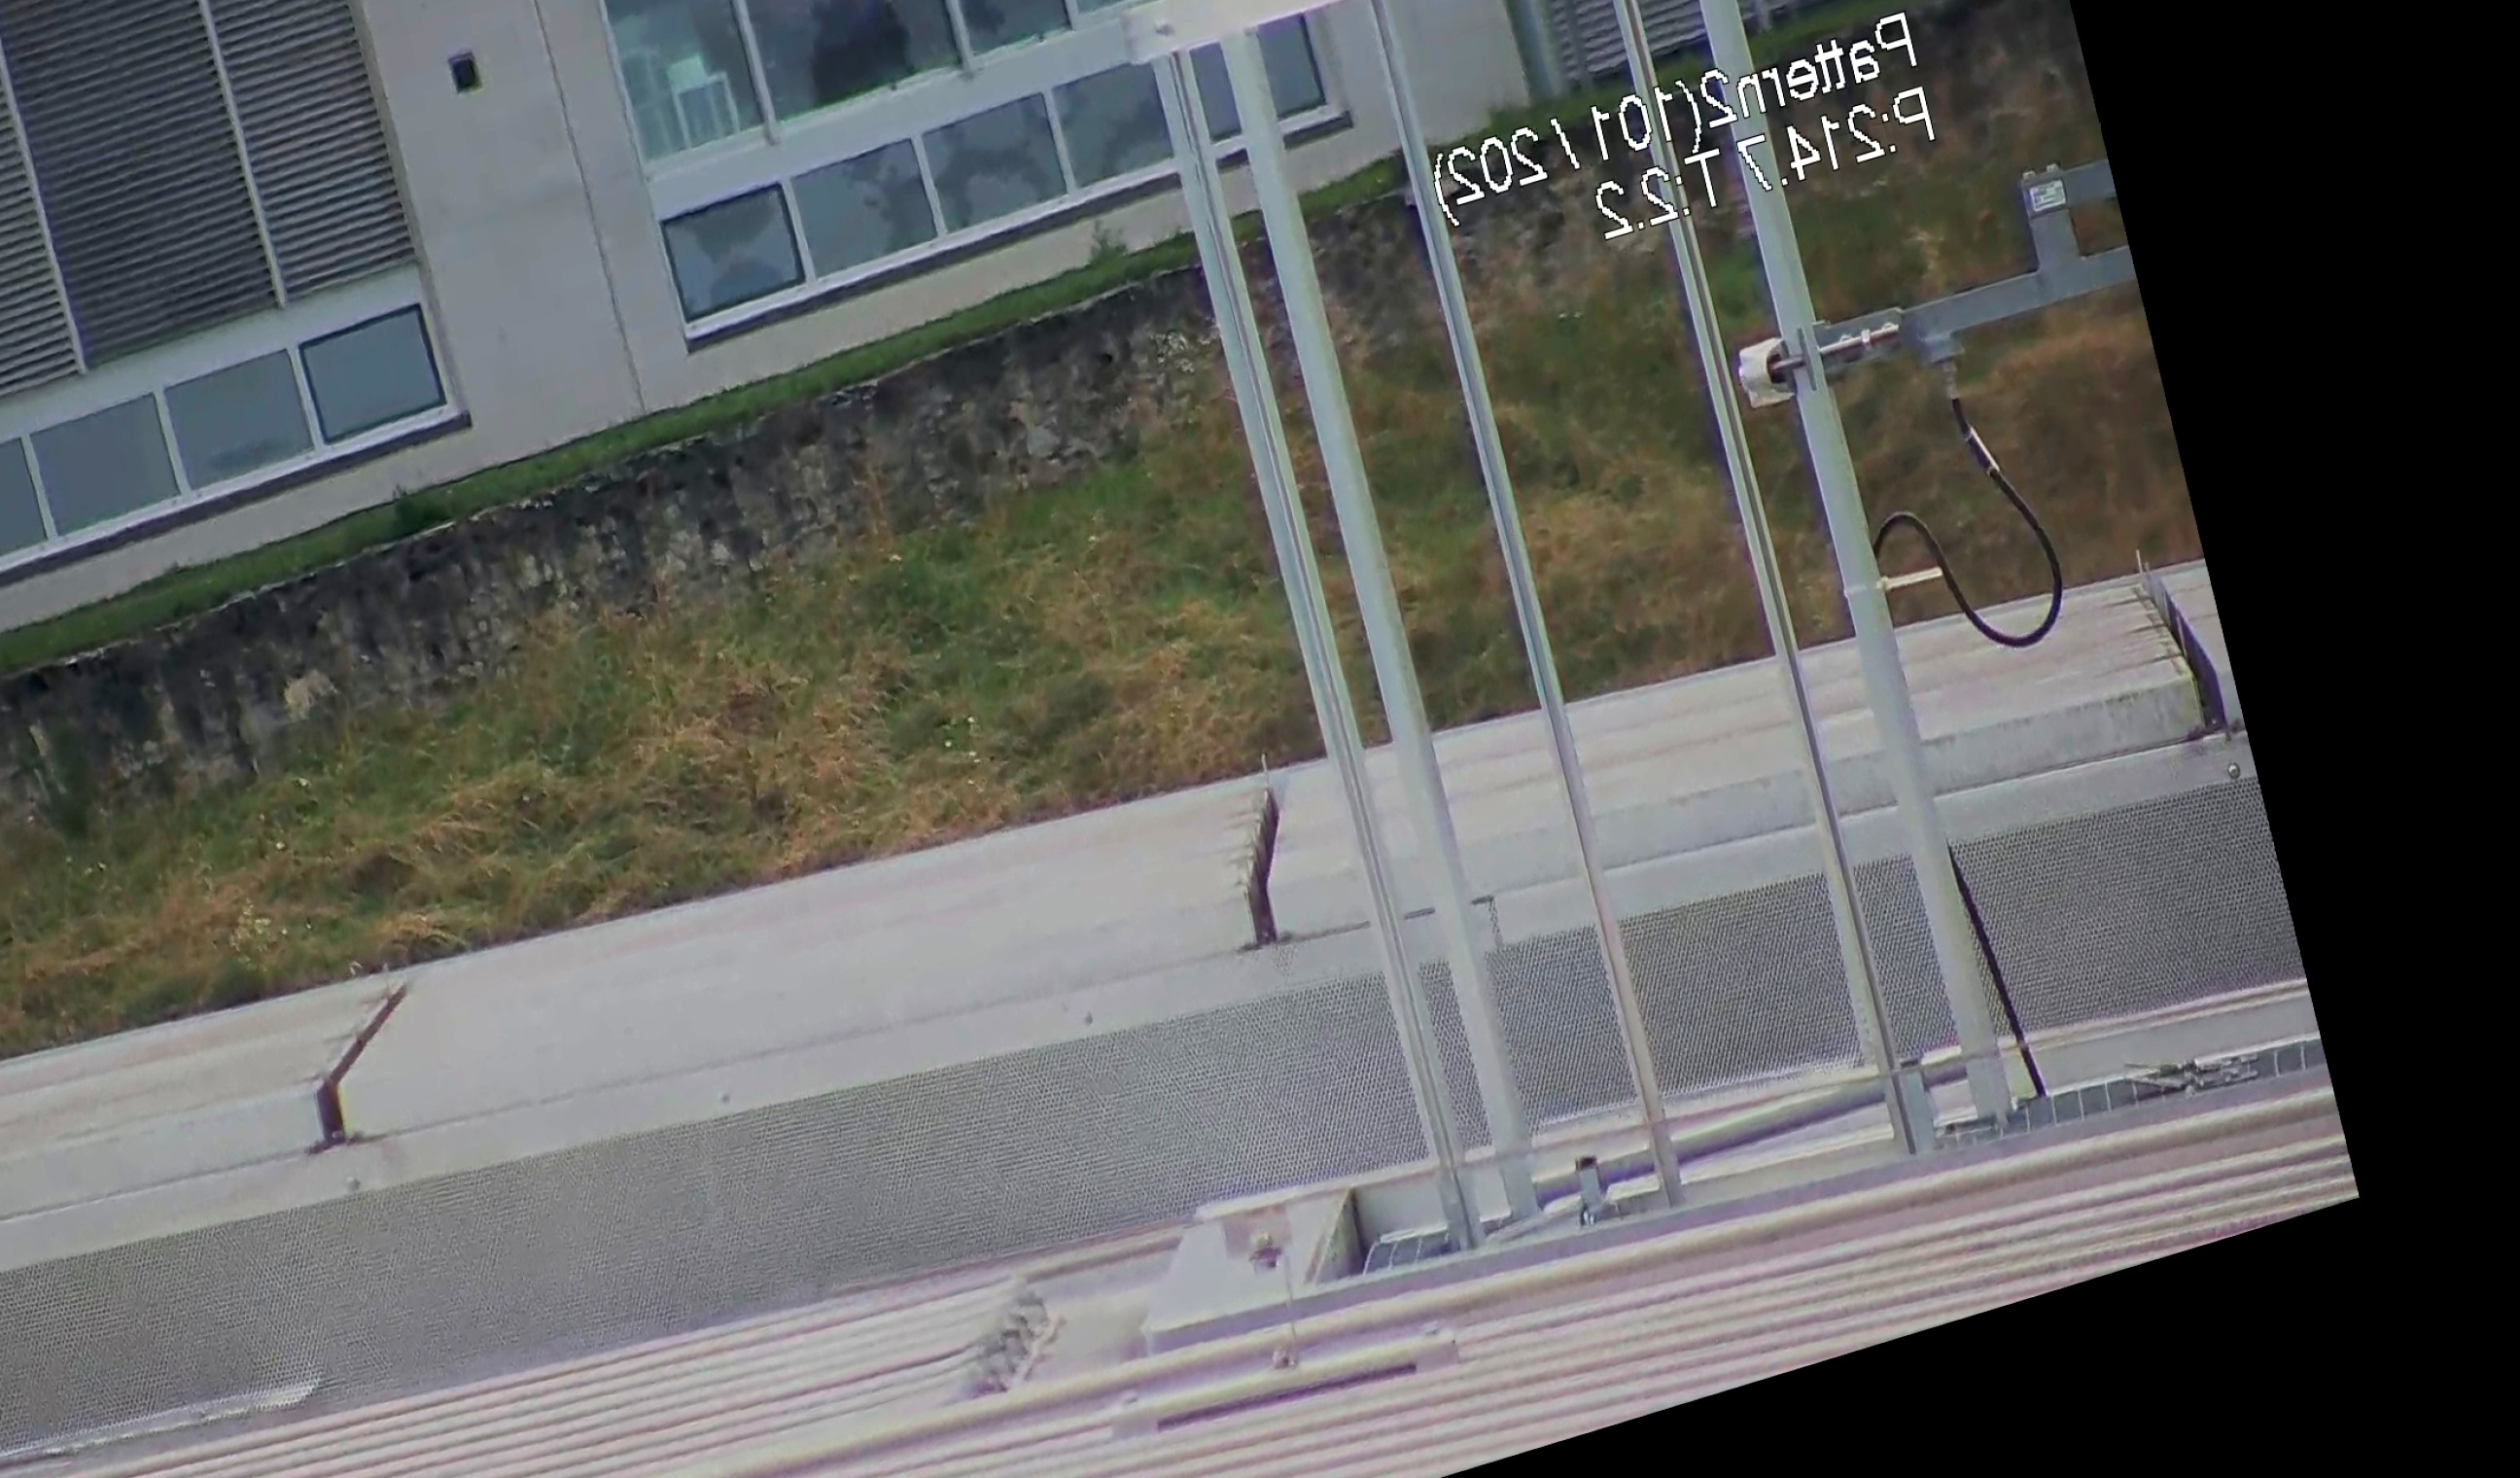Other: (1194, 743, 1338, 964)
